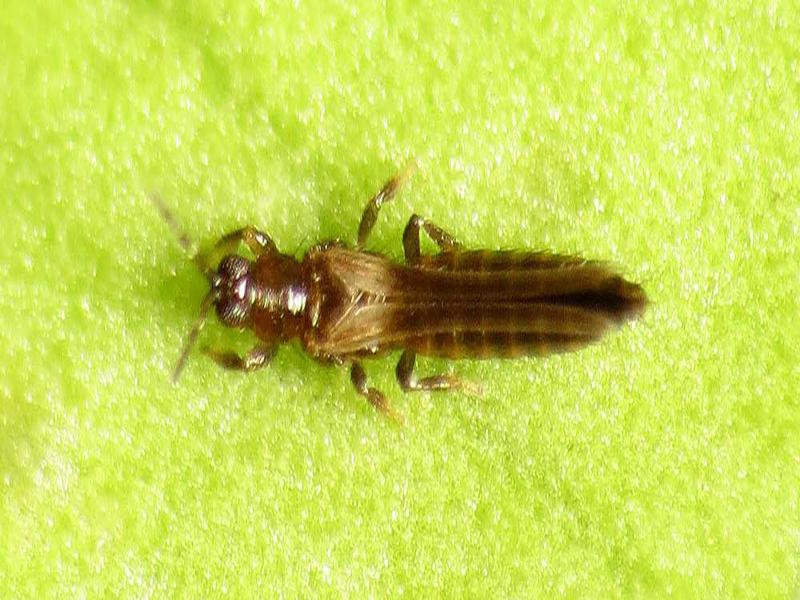Thrips: (191, 208, 665, 414)
